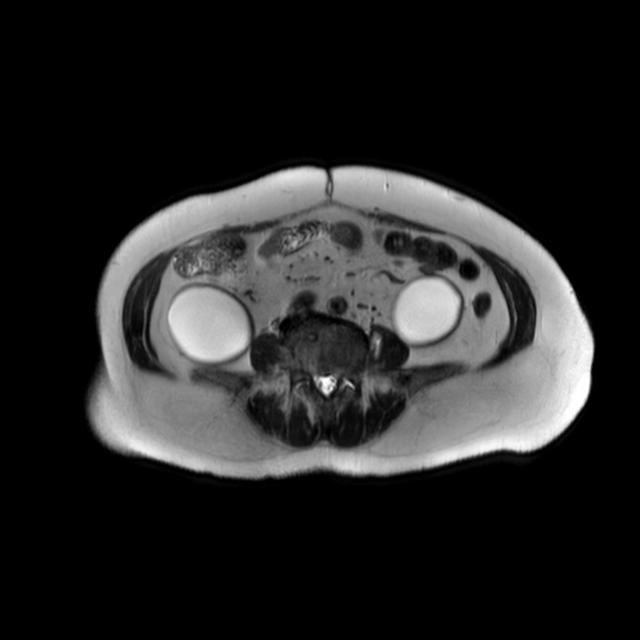sag: (171, 284, 251, 363)
sol: (388, 276, 463, 347)
